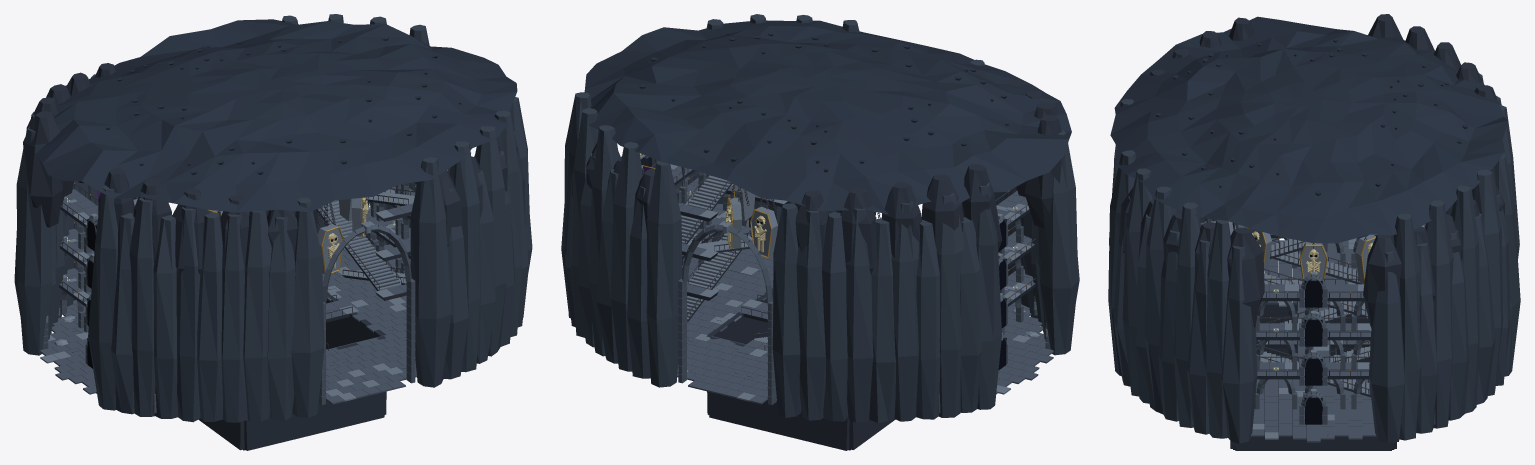
File: cellar-room-06.glb
3 renders of one model, left to right at view 1: azimuth 30°, elevation 25°; view 2: azimuth 150°, elevation 25°; view 3: azimuth 270°, elevation 25°, orthographic.
Visible parts, largest first — view 1: Cellar 6 rock, Cellar 6 ceiling, Cellar 6 stone_dark, Cellar 6 stone_floor, Cellar 6 stone, Cellar 6 stone_light, Cellar 6 stone_floor_light, Cellar 6 iron, Cellar 6 void; view 2: Cellar 6 rock, Cellar 6 ceiling, Cellar 6 stone_dark, Cellar 6 stone_floor, Cellar 6 stone, Cellar 6 stone_light, Cellar 6 iron, Cellar 6 void, Cellar 6 stone_floor_light; view 3: Cellar 6 ceiling, Cellar 6 rock, Cellar 6 stone_dark, Cellar 6 stone, Cellar 6 stone_floor, Cellar 6 stone_light, Cellar 6 iron, Cellar 6 void, Cellar 6 stone_floor_light, Cellar 6 brass.
Part boxes in pixels (x1,y1,x2,y2): Cellar 6 rock: (14,14,532,422); Cellar 6 ceiling: (35,19,517,212); Cellar 6 stone_dark: (23,63,517,450); Cellar 6 stone_floor: (40,242,416,404); Cellar 6 stone: (43,168,449,413); Cellar 6 stone_light: (45,168,449,345); Cellar 6 stone_floor_light: (40,247,406,401); Cellar 6 iron: (59,170,449,350); Cellar 6 void: (87,197,384,450); Cellar 6 rock: (561,14,1079,422); Cellar 6 ceiling: (584,20,1071,214); Cellar 6 stone_dark: (571,79,1061,450); Cellar 6 stone_floor: (677,249,1053,404); Cellar 6 stone: (644,156,1050,413); Cellar 6 stone_light: (640,155,1048,373); Cellar 6 iron: (651,163,1035,350); Cellar 6 void: (640,154,1006,450); Cellar 6 stone_floor_light: (695,283,1030,401); Cellar 6 ceiling: (1110,16,1508,243); Cellar 6 rock: (1108,73,1520,443); Cellar 6 stone_dark: (1119,14,1504,450); Cellar 6 stone: (1192,218,1435,424); Cellar 6 stone_floor: (1251,238,1376,442); Cellar 6 stone_light: (1211,221,1423,419); Cellar 6 iron: (1213,219,1370,393); Cellar 6 void: (1233,237,1394,449); Cellar 6 stone_floor_light: (1252,238,1356,439); Cellar 6 brass: (1247,228,1375,383).
Bounding box in the file's own units: 95.66 × 65.27 × 76.64.
